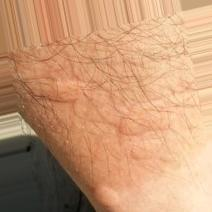Mosquito: (92, 183, 122, 212)
